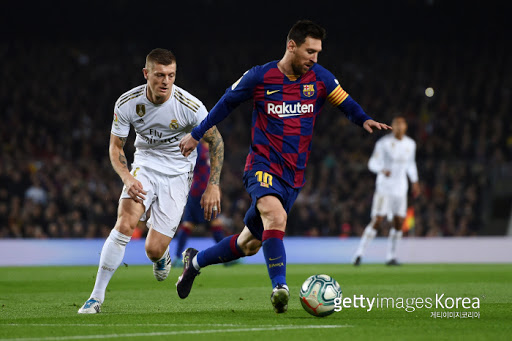barcelona: (182, 22, 372, 319)
realmadrid: (73, 39, 227, 317), (358, 110, 422, 273)
